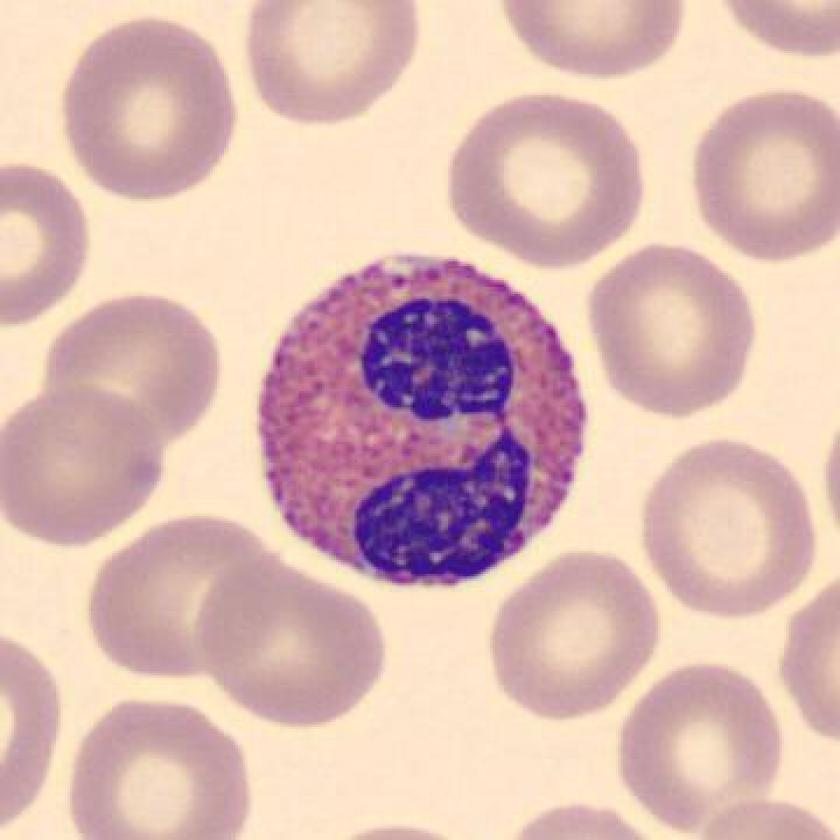eosinophil: (244, 230, 601, 612)
